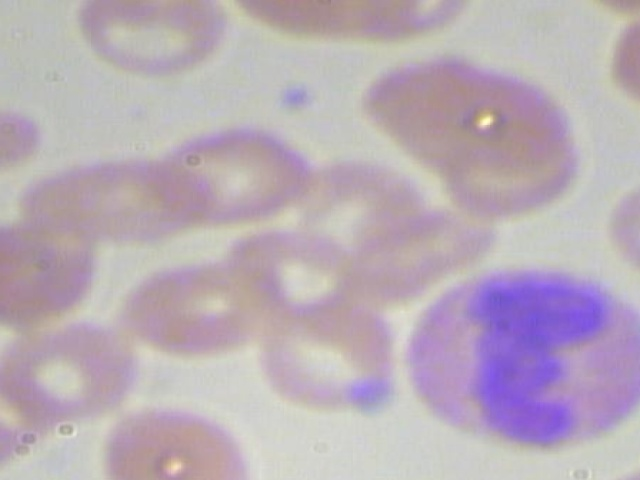Platelets: (270, 74, 323, 115)
RBC: (156, 121, 332, 225), (249, 303, 413, 413), (0, 321, 162, 425), (59, 0, 235, 85), (91, 401, 259, 480), (0, 93, 66, 182), (600, 4, 640, 130)
WBC: (387, 258, 640, 451)
